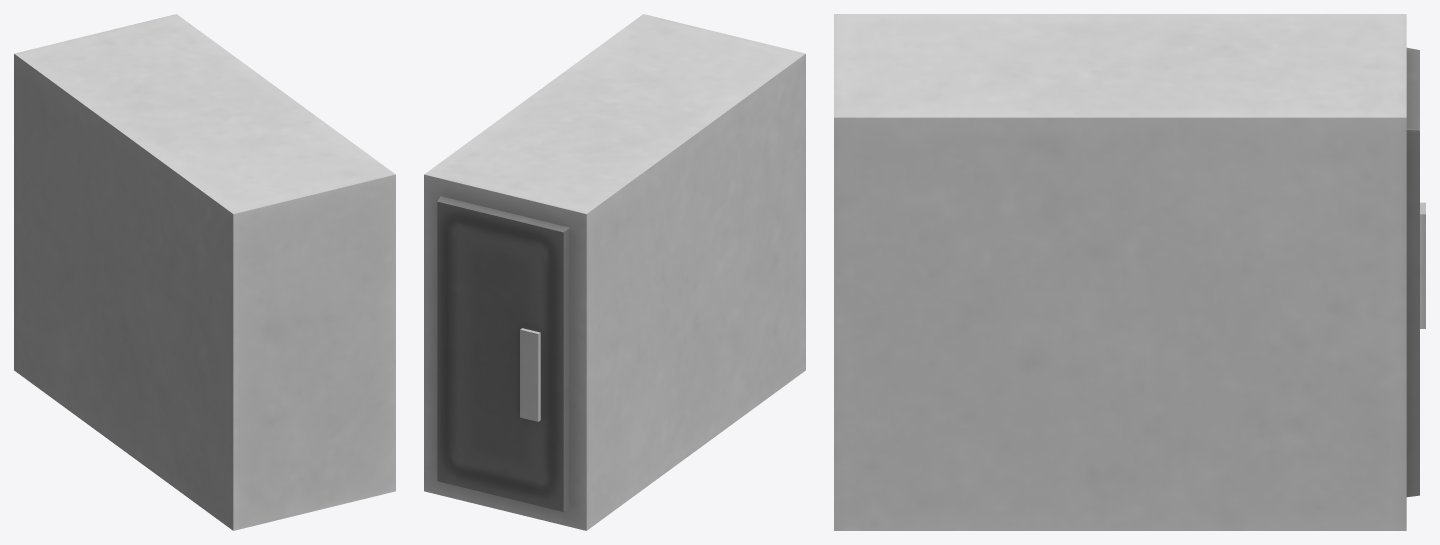
File: Pfb_Kitchen.fbx
The picture shows the model from 3 angles, left to right: view 1: azimuth 30°, elevation 25°; view 2: azimuth 150°, elevation 25°; view 3: azimuth 270°, elevation 25°; orthographic projection. The views are drawn at different scales.
Visible parts, largest first — view 1: MAT_Kitchen; view 2: MAT_Kitchen; view 3: MAT_Kitchen.
Part boxes in pixels (bbox=[...]): MAT_Kitchen: bbox=[14, 14, 395, 530]; MAT_Kitchen: bbox=[424, 14, 805, 530]; MAT_Kitchen: bbox=[834, 14, 1425, 530].
Bounding box in the file's own units: 0.3826 × 0.7127 × 0.9243.
1 material, 1 textured.
